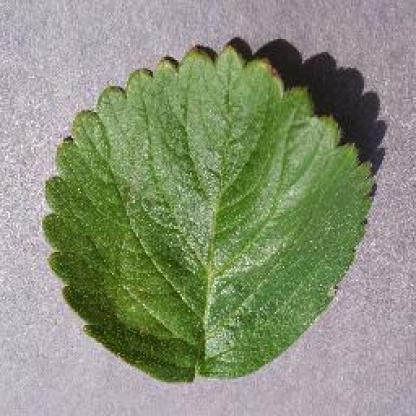healthy: (28, 31, 390, 400)
